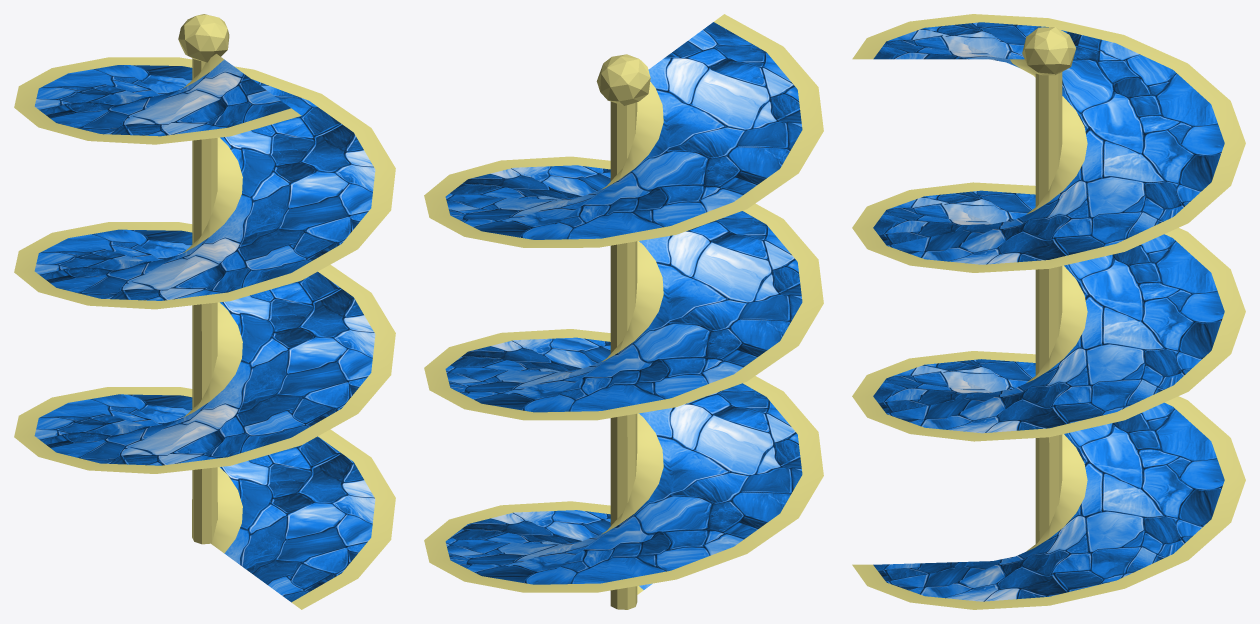
The model's file is wind spiral.glb.
3 renders of one model, left to right at view 1: azimuth 30°, elevation 25°; view 2: azimuth 150°, elevation 25°; view 3: azimuth 270°, elevation 25°, orthographic. The views are drawn at different scales.
Visible parts, largest first — view 1: Sphere; view 2: Sphere; view 3: Sphere.
Part boxes in pixels (left/top/right/bottom): Sphere: left=14, top=14, right=395, bottom=609; Sphere: left=424, top=14, right=823, bottom=609; Sphere: left=852, top=14, right=1245, bottom=609.
Bounding box in the file's own units: 1 × 1.5 × 1.
Materials: 2 (1 with a texture image).
